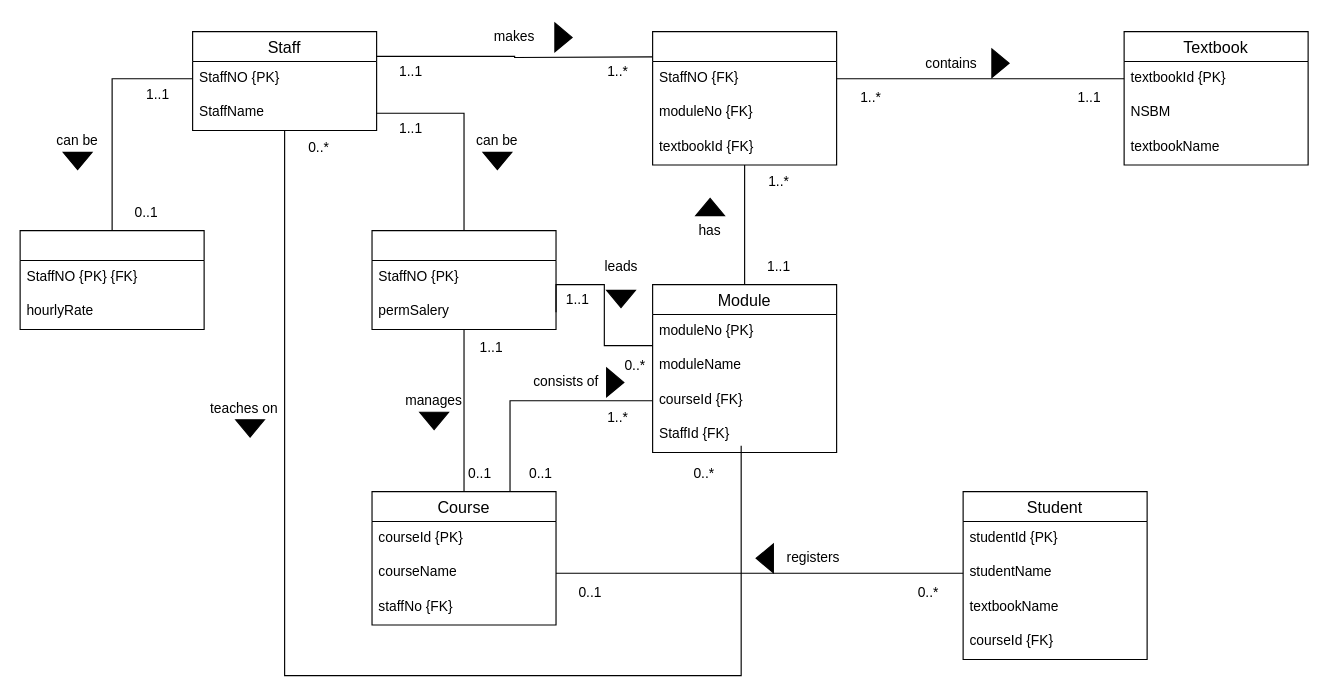
Some shapes in this 1328 by 697 pixel diagram are drawn without their labels. Each missing label, with the box of its shape:
FulltimeLecturer: (371, 229, 556, 329)
recommendation: (651, 30, 837, 165)
VisitingLecturer: (19, 229, 204, 329)
